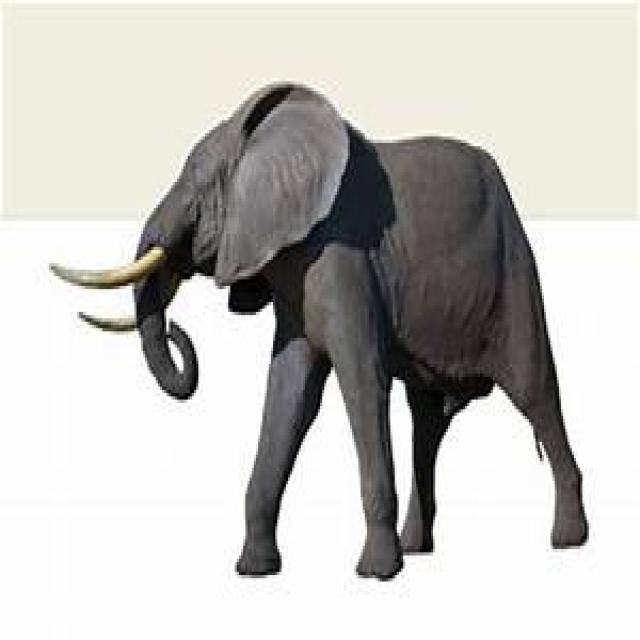elephant: (53, 81, 589, 585)
